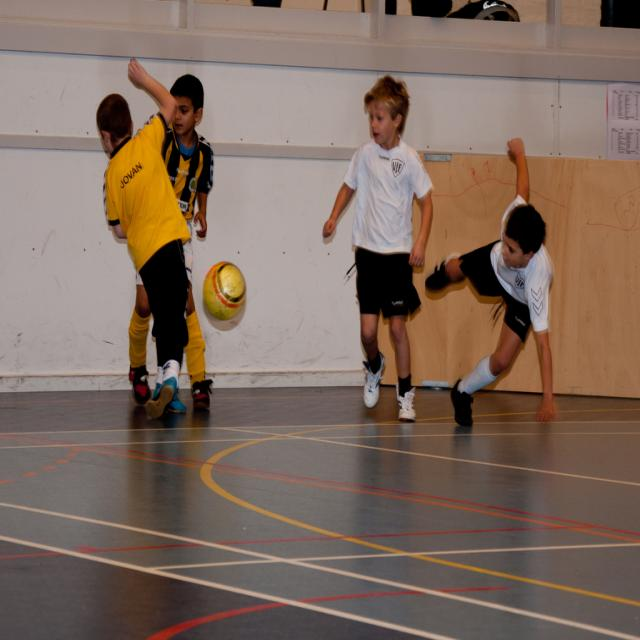Ball: (204, 259, 247, 322)
